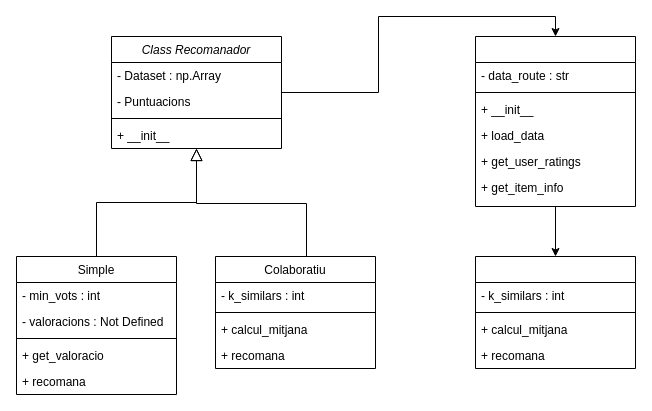
Some shapes in this 652 by 411 pixel diagram are drawn without their labels. Here are the shapes that lost their labels. From the top down, the box of each, then its label:
(474, 36, 636, 206): Class Dataset
(474, 256, 636, 368): Class Item
